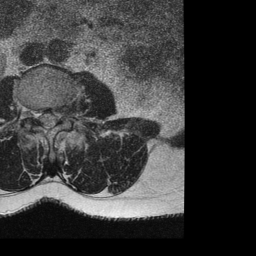CCS_normal: (44, 104, 51, 134)
LFS_stenosis: (60, 105, 69, 124)
LLS_normal: (52, 104, 60, 130)
RFS_normal: (29, 103, 37, 125)
RLS_normal: (37, 104, 44, 130)
